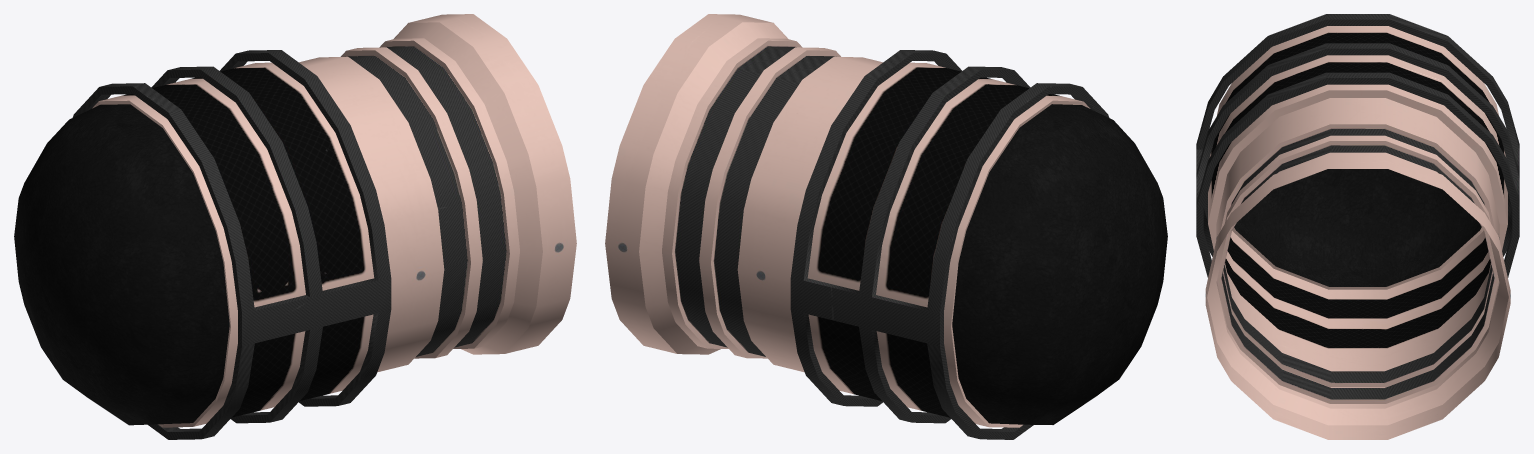
File: pommel_1_c_c.glb
The picture shows the model from 3 angles, left to right: view 1: azimuth 30°, elevation 25°; view 2: azimuth 150°, elevation 25°; view 3: azimuth 270°, elevation 25°; orthographic projection. The views are drawn at different scales.
Visible parts, largest first — view 1: pommel_1_c_c_lod0; view 2: pommel_1_c_c_lod0; view 3: pommel_1_c_c_lod0.
Part boxes in pixels (x1,y1,x2,y2): pommel_1_c_c_lod0: (14,14,576,439); pommel_1_c_c_lod0: (605,14,1167,439); pommel_1_c_c_lod0: (1196,14,1519,439).
Size of what is drawn, in the model's own units: 0.0457 by 0.0324 by 0.0328.
1 material, 1 textured.
